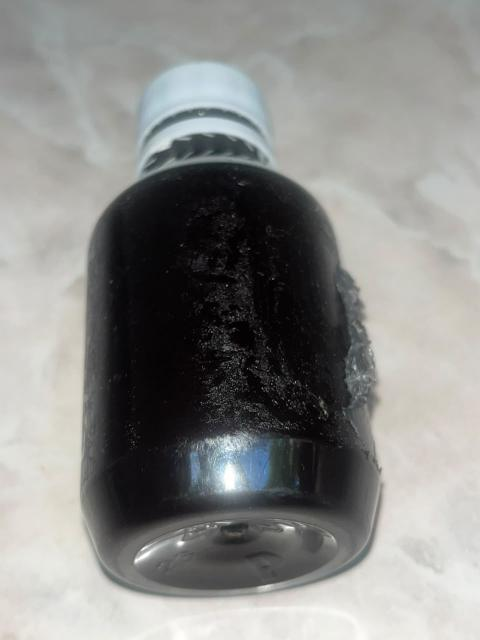HDPE: (70, 37, 412, 627)
